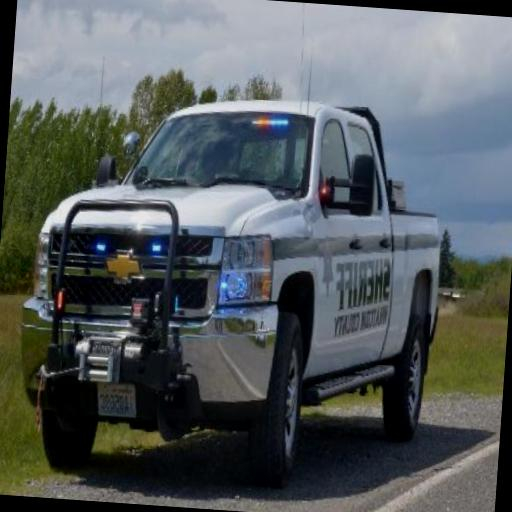Ambulance: (14, 78, 448, 496)
